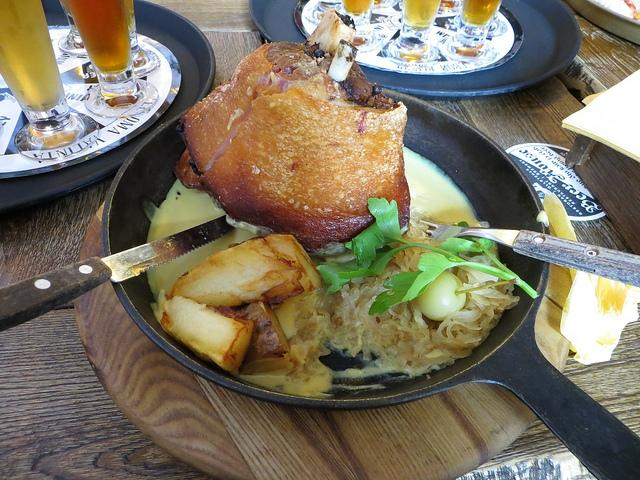potato: (170, 234, 325, 308), (150, 288, 256, 376), (236, 300, 290, 366)
